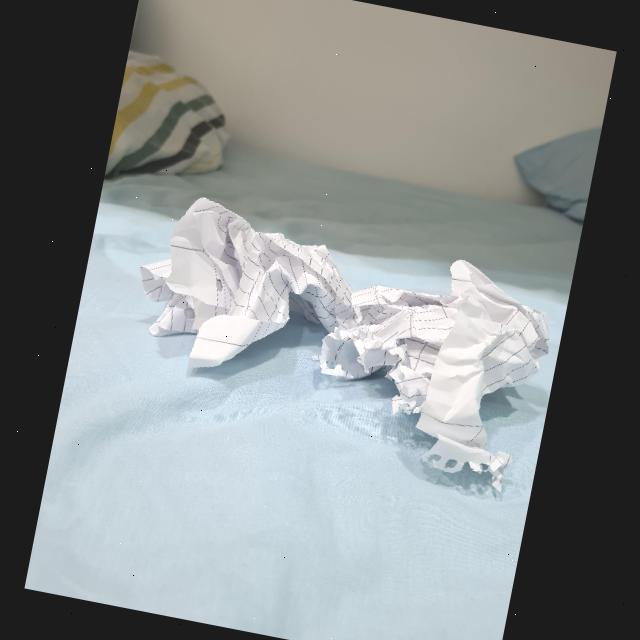trash: (316, 234, 562, 493), (132, 184, 346, 393)
